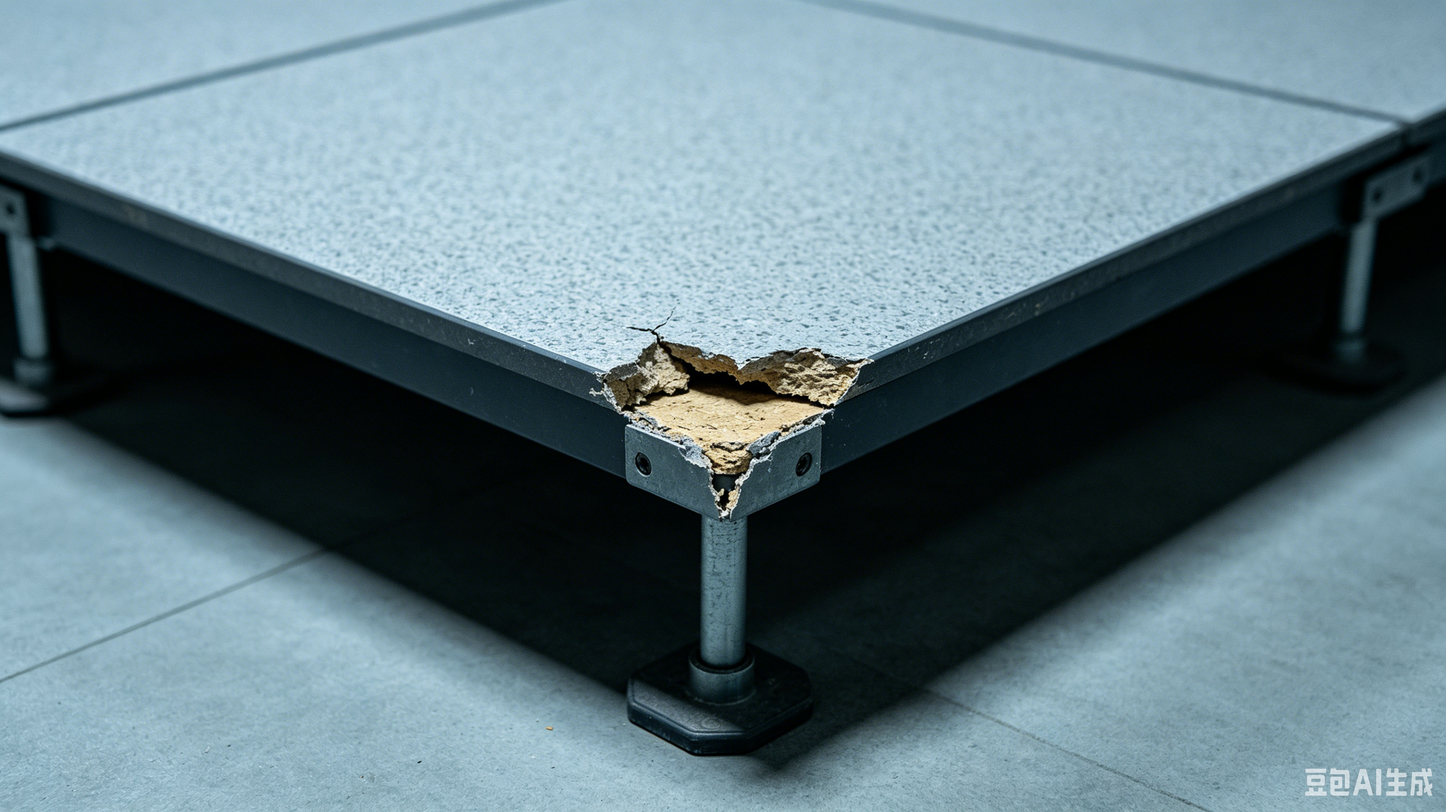floor_defect: (581, 299, 900, 527)
